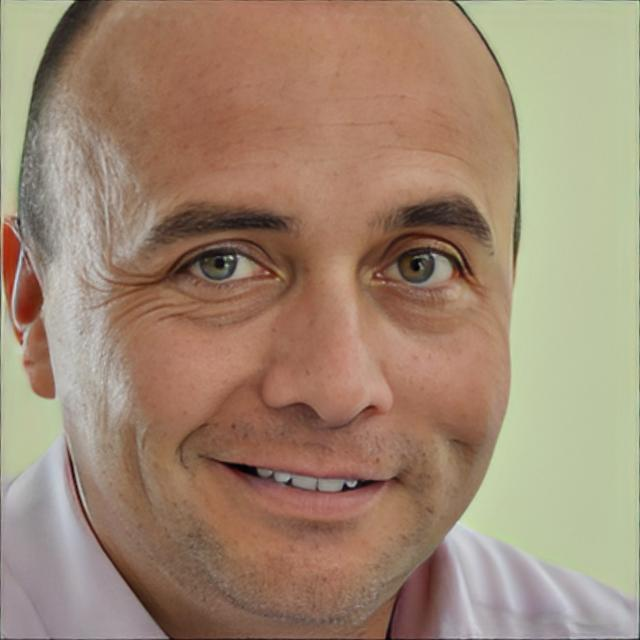happy: (83, 58, 515, 626)
